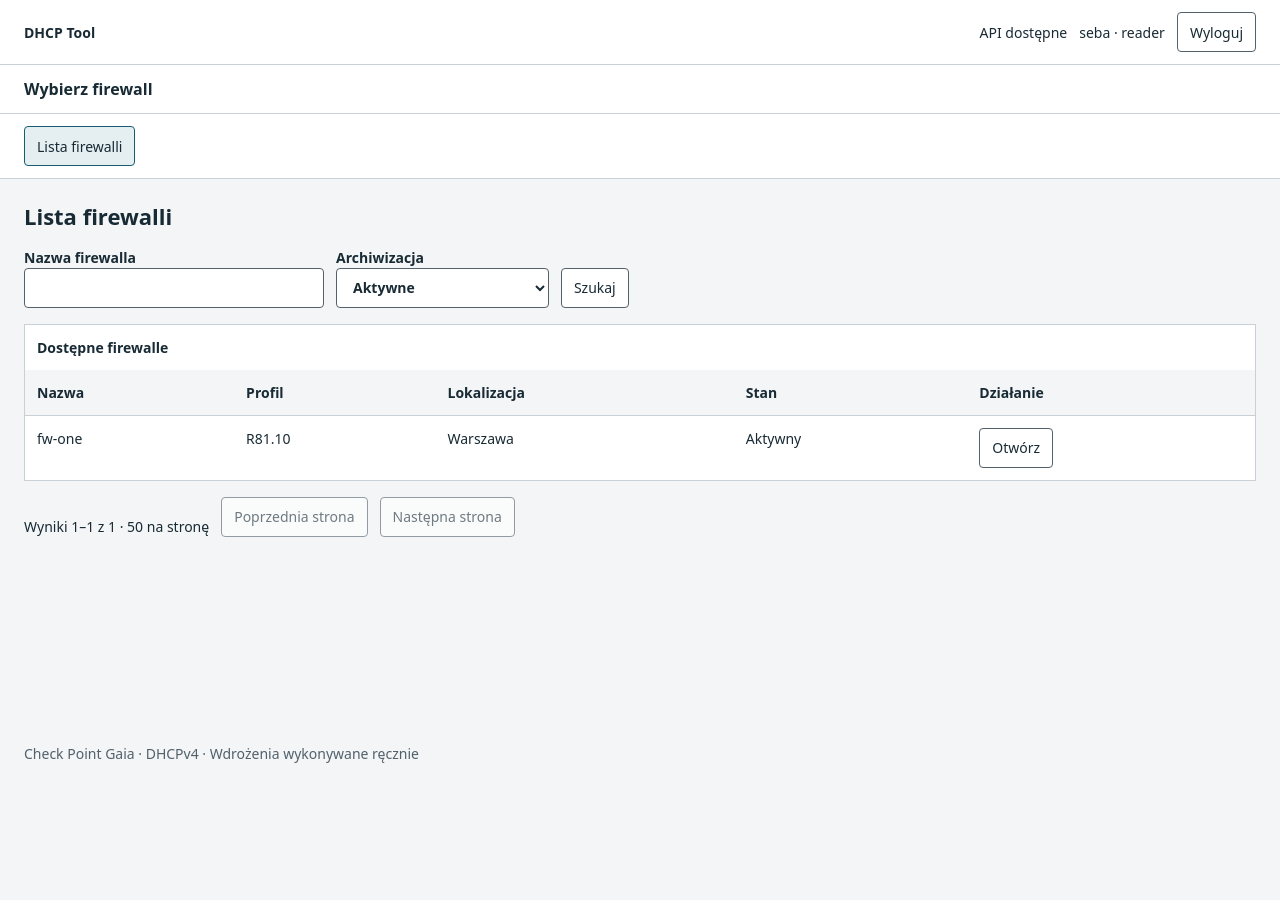
requests the next page instead of rendering every reservation in the snapshot
This screenshot has width=1280, height=900.
Click the button with aria-label "Otwórz fw-one".
click(1016, 448)  # box x1=979 y1=428 x2=1053 y2=468
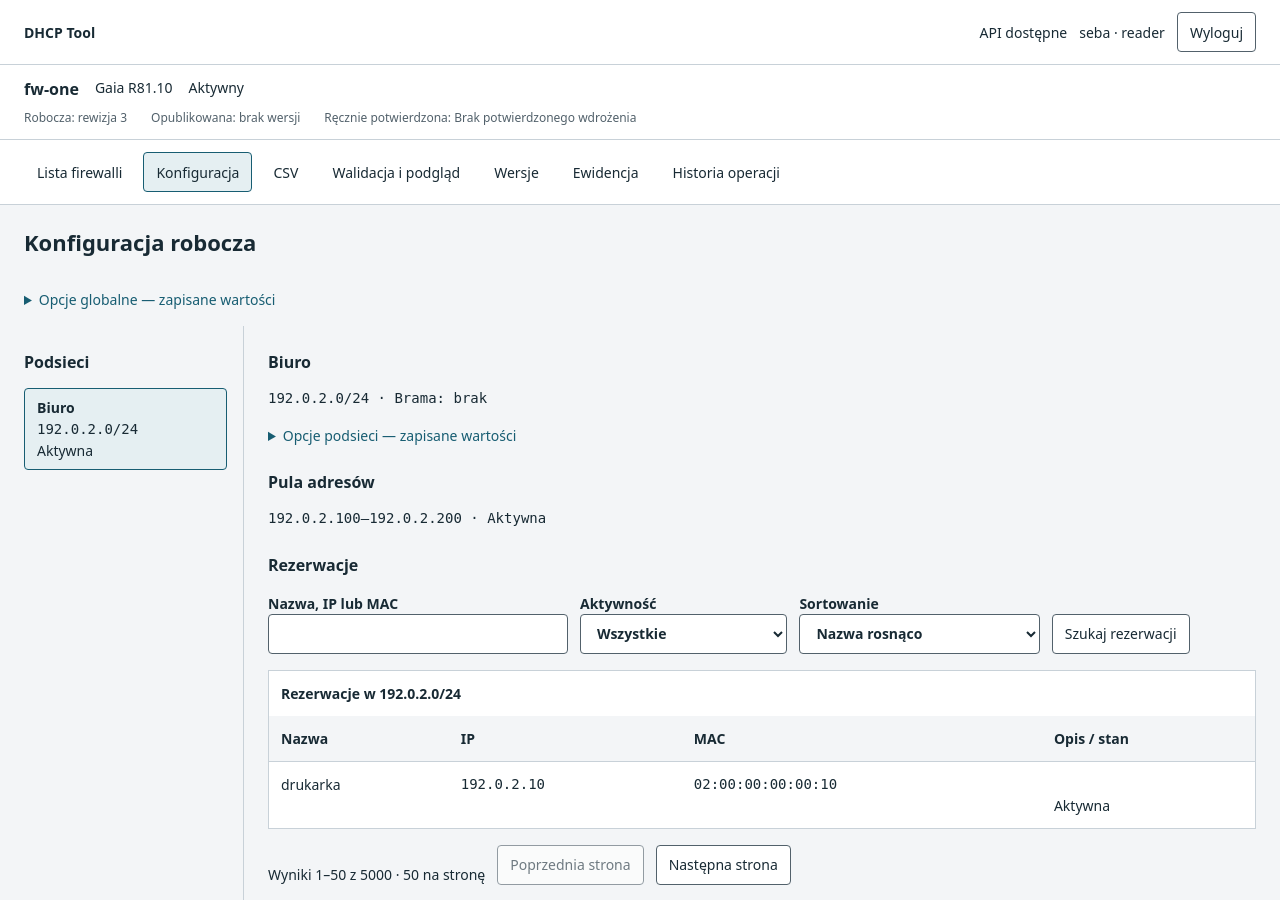
Result: the heading "Konfiguracja robocza" is shown at x1=24 y1=227 x2=256 y2=257
Result: the text "drukarka" is shown at x1=269 y1=761 x2=449 y2=828
Click the button "Następna strona".
click(723, 864)  # box x1=656 y1=844 x2=791 y2=884
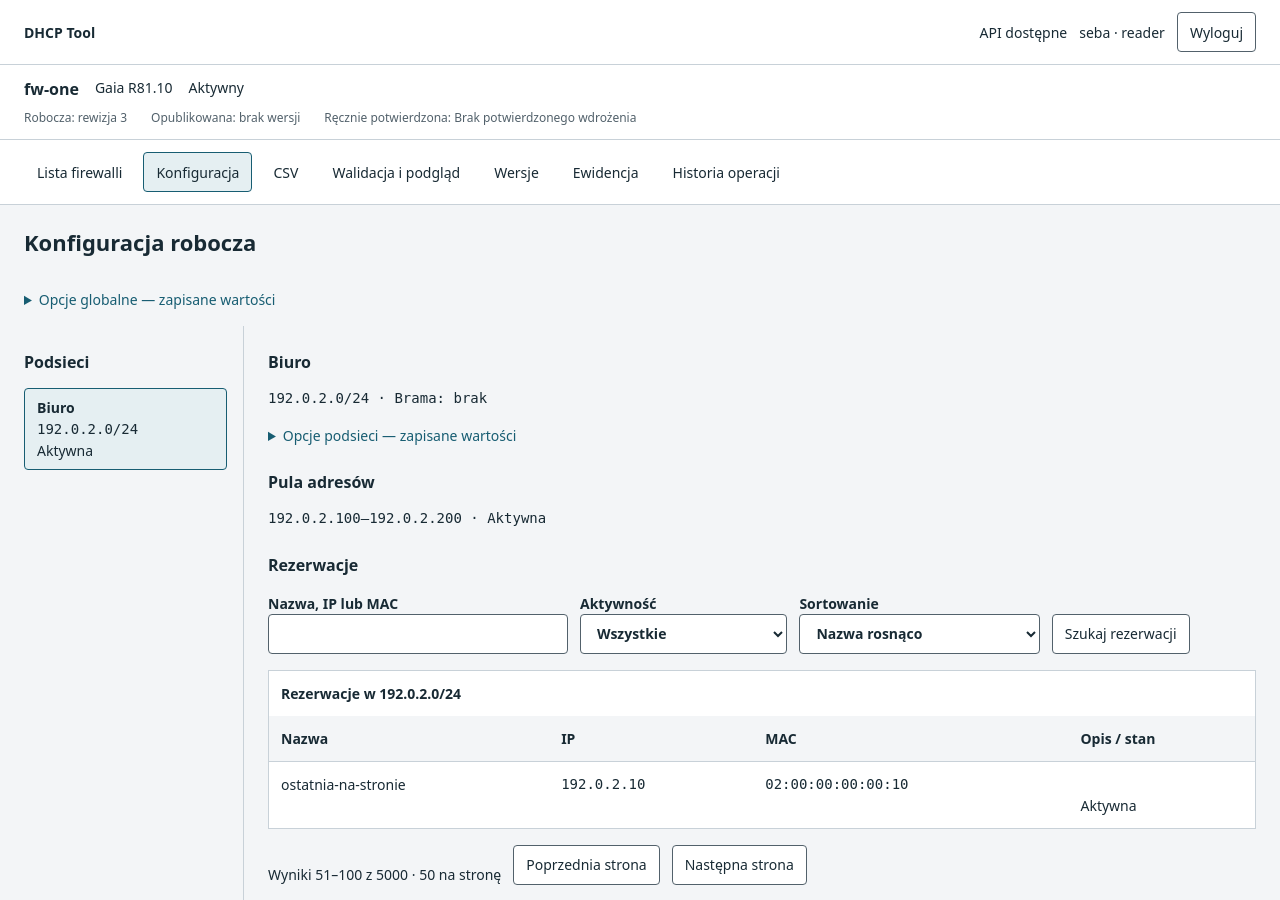
Result: the text "ostatnia-na-stronie" is shown at x1=269 y1=761 x2=549 y2=828
Result: the text "drukarka" is gone
Result: the text "Wyniki 51–100 z 5000 · 50 na stronę" is shown at x1=268 y1=864 x2=501 y2=884
